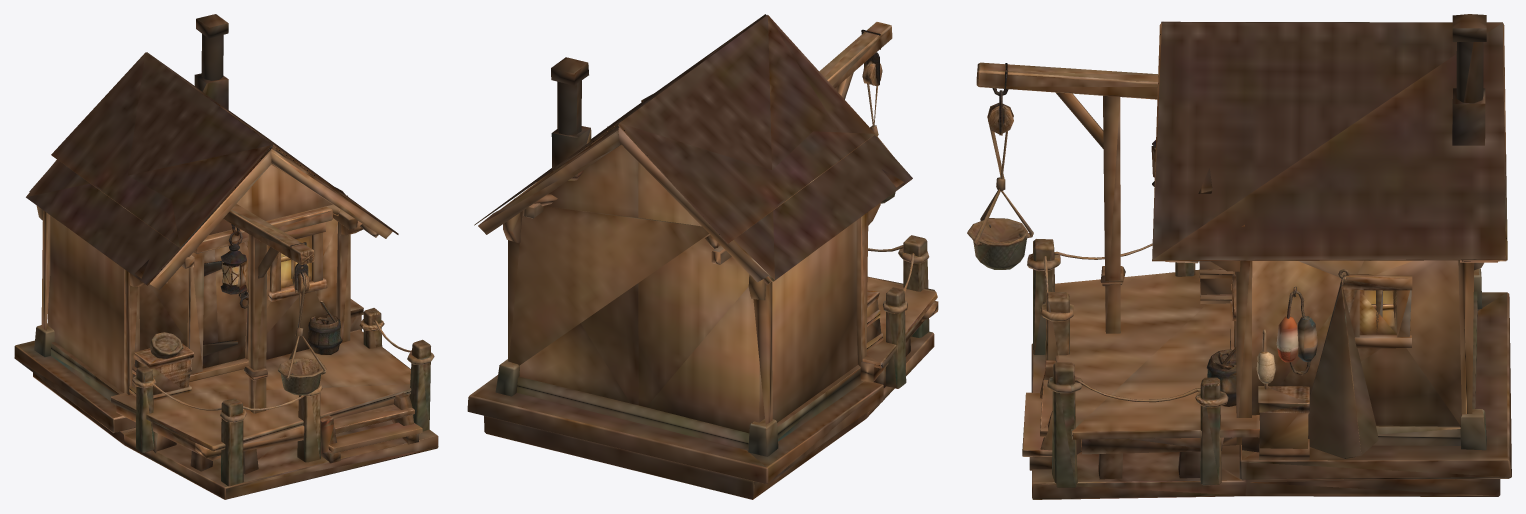
The model's file is diorama-shack.glb.
The picture shows the model from 3 angles, left to right: view 1: azimuth 30°, elevation 25°; view 2: azimuth 150°, elevation 25°; view 3: azimuth 270°, elevation 25°; orthographic projection. The views are drawn at different scales.
Bounding box in the file's own units: 0.7109 × 0.8672 × 0.9619.
Materials: 1 (1 with a texture image).
